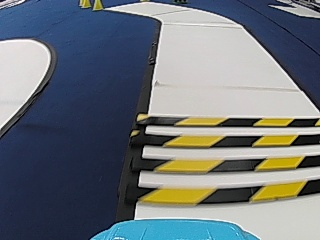bump: (151, 112, 305, 205)
